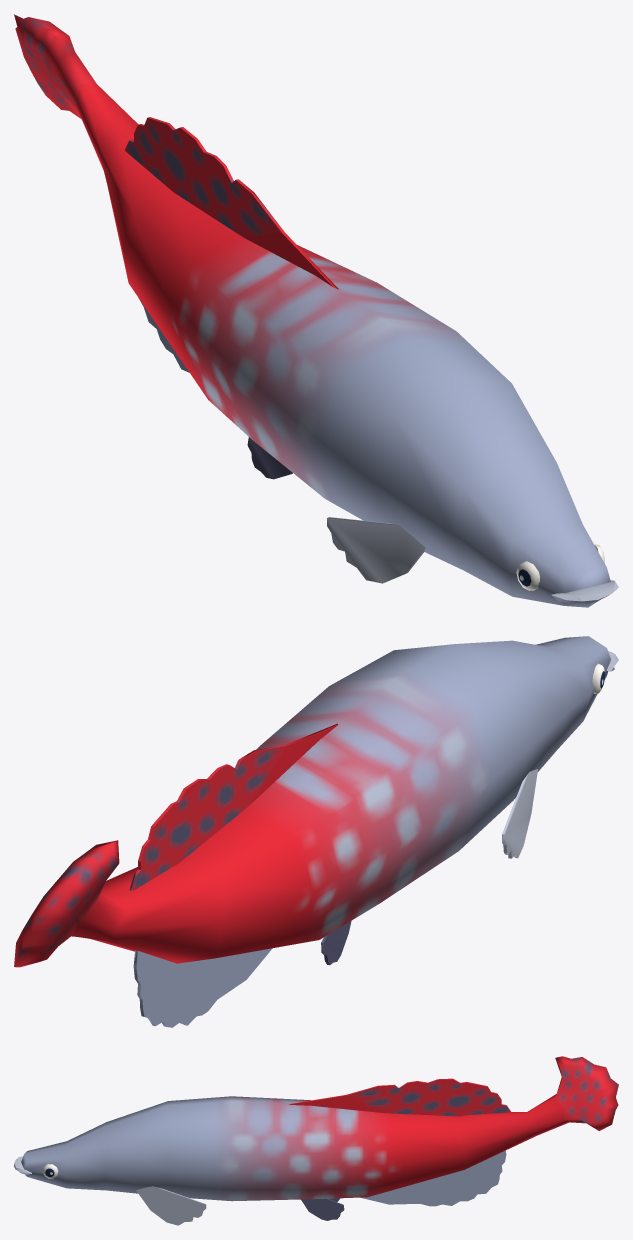
3 views of the same model, one above another, from view 1: azimuth 30°, elevation 25°; view 2: azimuth 150°, elevation 25°; view 3: azimuth 270°, elevation 25° (orthographic). The views are drawn at different scales.
Parts seen in each view (by area): view 1: Fish_Arapaima; view 2: Fish_Arapaima; view 3: Fish_Arapaima.
Part boxes in pixels (x1,y1,x2,y2): Fish_Arapaima: [14, 14, 618, 607]; Fish_Arapaima: [14, 636, 618, 1027]; Fish_Arapaima: [14, 1056, 618, 1225].
Size of the model in its own units: 18.99 by 29 by 107.
